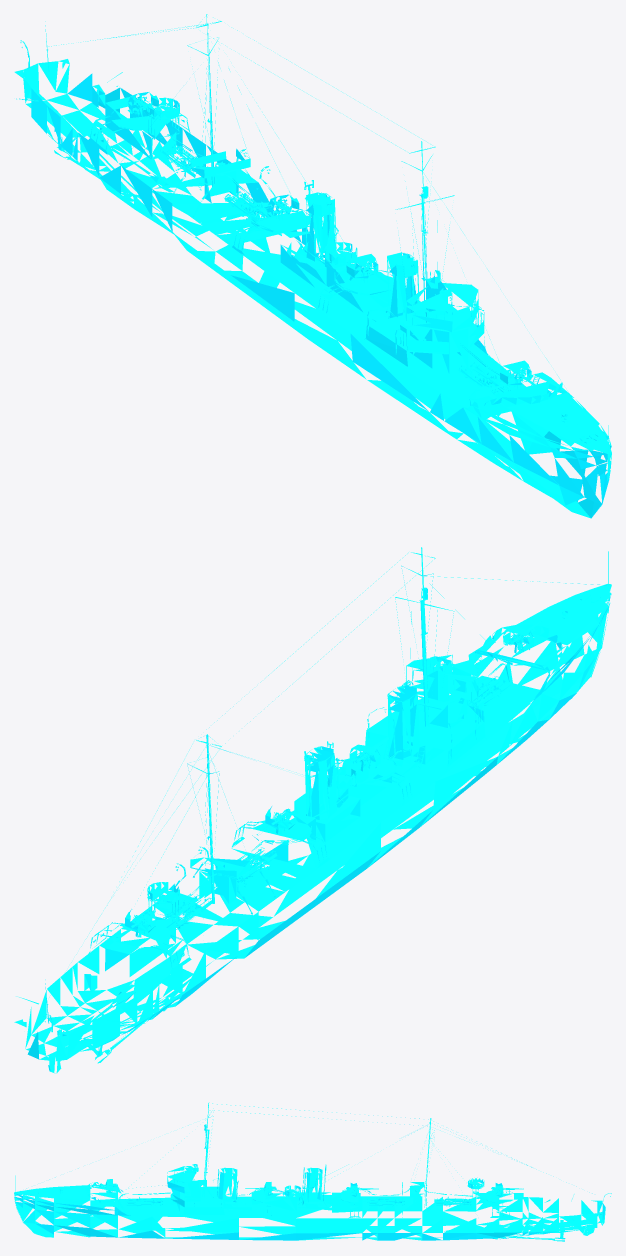
Rendered from PJSD004.glb.
3 renders of one model, top to bottom at view 1: azimuth 30°, elevation 25°; view 2: azimuth 150°, elevation 25°; view 3: azimuth 270°, elevation 25°, orthographic. The views are drawn at different scales.
Visible parts, largest first — view 1: hull_mid, hull_bow, hull_stern, secondary_battery, torpedo; view 2: hull_mid, hull_bow, hull_stern, secondary_battery, torpedo; view 3: hull_mid, hull_bow, hull_stern, torpedo, secondary_battery.
Part boxes in pixels (left/top/right/bottom): hull_mid: left=72, top=14, right=501, bottom=429; hull_bow: left=422, top=171, right=611, bottom=518; hull_stern: left=14, top=21, right=217, bottom=174; secondary_battery: left=116, top=86, right=542, bottom=391; torpedo: left=159, top=143, right=510, bottom=394; hull_mid: left=72, top=547, right=500, bottom=1024; hull_bow: left=423, top=551, right=611, bottom=776; hull_stern: left=14, top=744, right=219, bottom=1073; secondary_battery: left=116, top=619, right=542, bottom=937; torpedo: left=163, top=676, right=511, bottom=929; hull_mid: left=165, top=1102, right=528, bottom=1240; hull_bow: left=14, top=1118, right=205, bottom=1238; hull_stern: left=430, top=1121, right=611, bottom=1241; torpedo: left=125, top=1196, right=471, bottom=1206; secondary_battery: left=89, top=1179, right=523, bottom=1197.
Bounding box in the file's own units: 0.7446 × 1.71 × 6.88.
